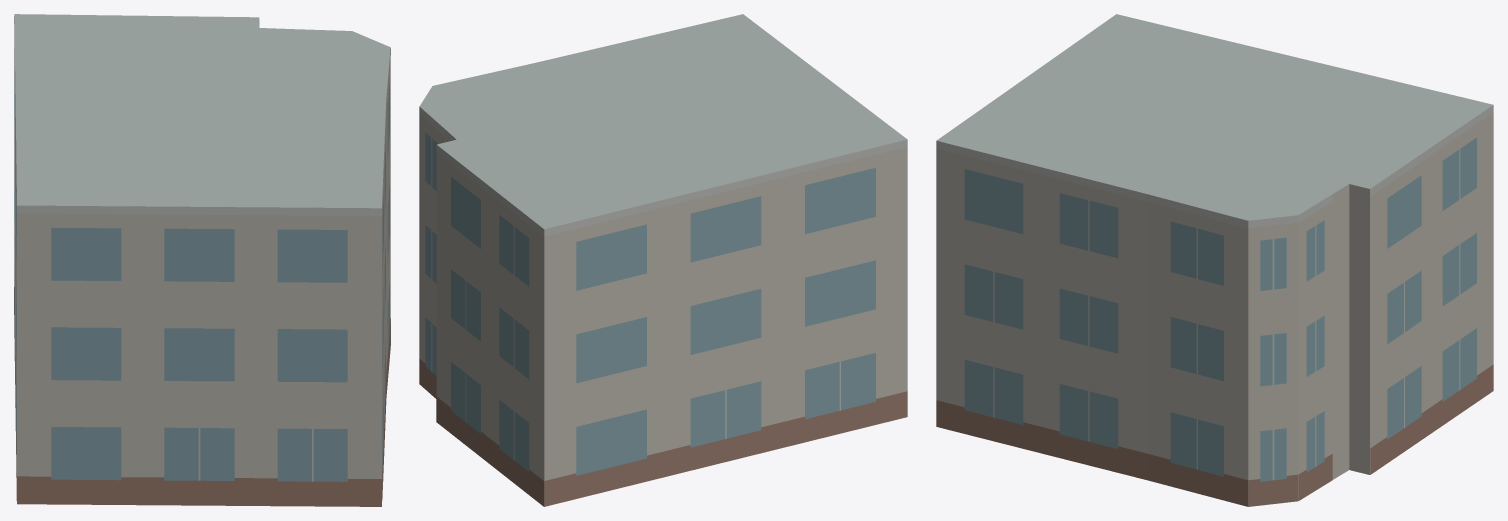
The model's file is survey-upis-32481944.glb.
3 renders of one model, left to right at view 1: azimuth 30°, elevation 25°; view 2: azimuth 150°, elevation 25°; view 3: azimuth 270°, elevation 25°, orthographic. The views are drawn at different scales.
Visible parts, largest first — view 1: survey-upis-32481944.tmp; view 2: survey-upis-32481944.tmp; view 3: survey-upis-32481944.tmp.
Part boxes in pixels (<box>): survey-upis-32481944.tmp: <box>14,14,390,506</box>; survey-upis-32481944.tmp: <box>419,14,907,506</box>; survey-upis-32481944.tmp: <box>936,14,1493,506</box>.
Bounding box in the file's own units: 14.19 × 9.15 × 16.16.
